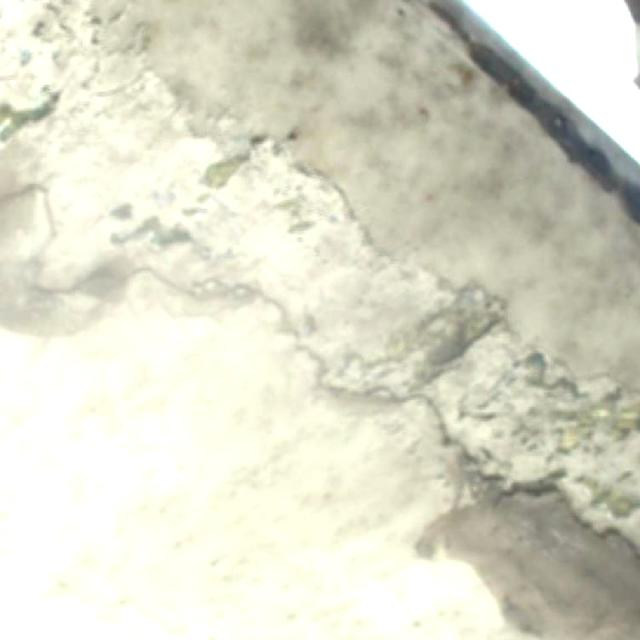corrosion: (1, 0, 276, 264), (286, 172, 471, 416), (470, 316, 640, 540)
